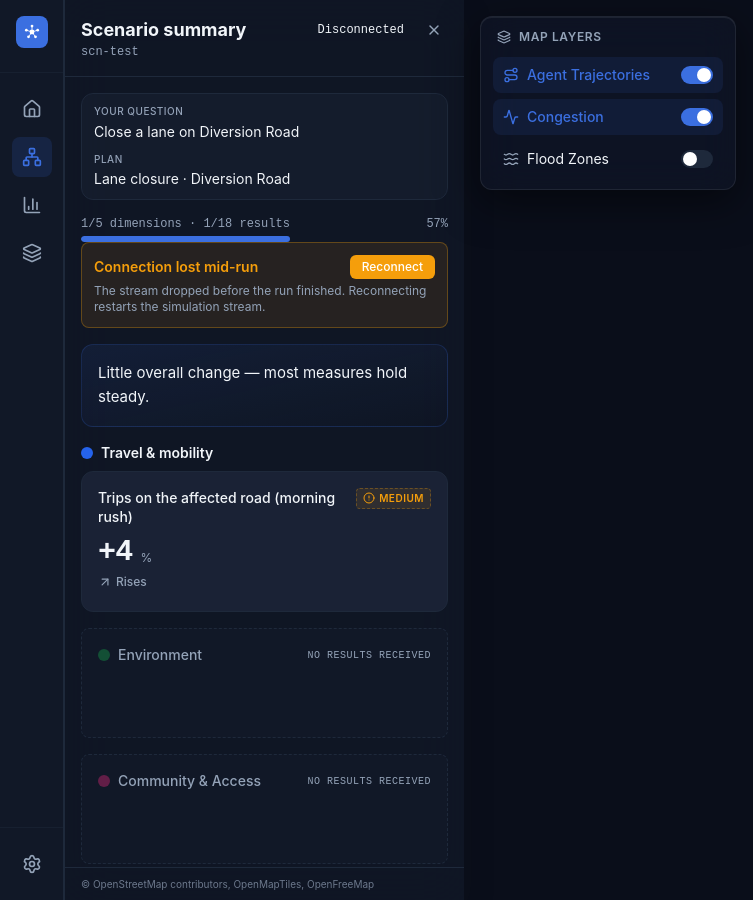
it: ScenarioSimulation page (progressive run UX) › shows a disconnect banner when the socket drops mid-run, and reconnects
Check: the message with test id "disconnect-banner" shows "Connection lost mid-run", box [94, 258, 258, 275]
Check: the text with test id "progress-line" shows "1/18 results", box [81, 217, 290, 231]
Click the button "Reconnect" at (392, 267), box [350, 255, 435, 279]
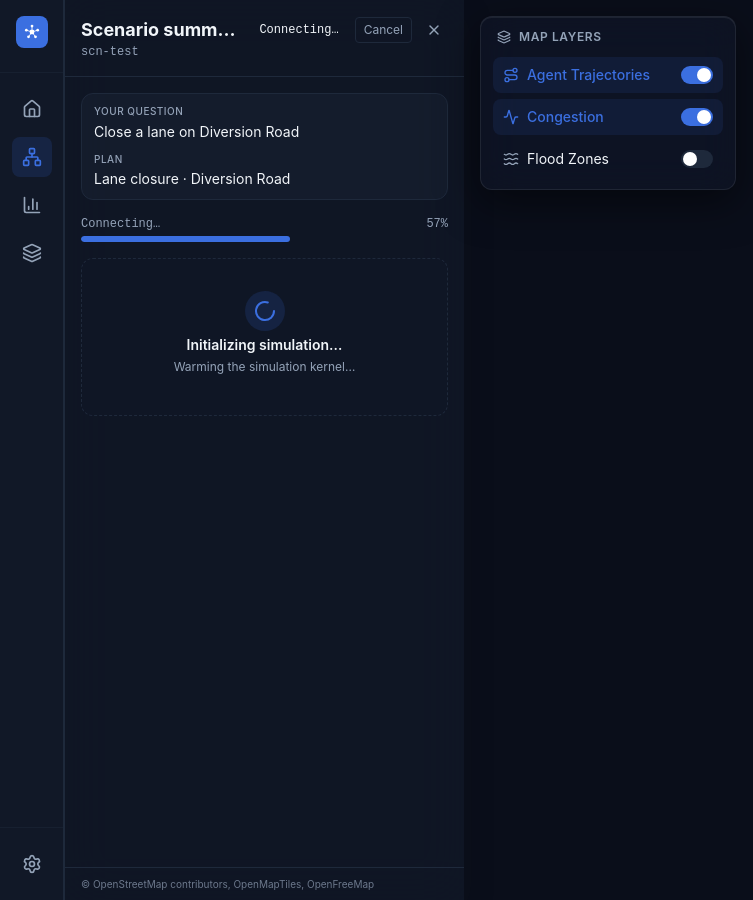
Check: the text with test id "progress-line" reads "Connecting…", box [81, 217, 160, 231]
